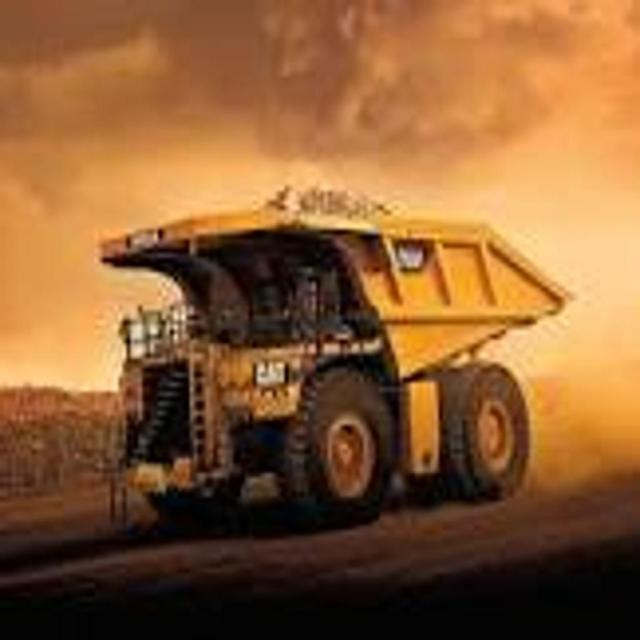dump_truck: (91, 151, 572, 541)
